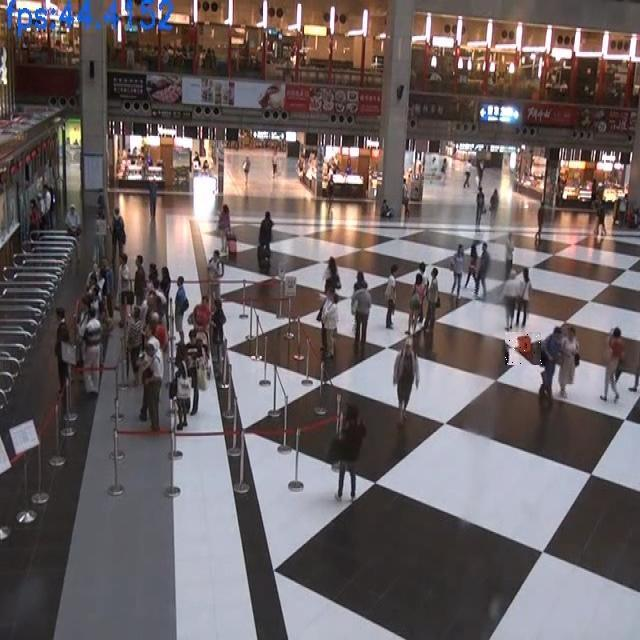abandoned-object: (506, 332, 544, 365)
